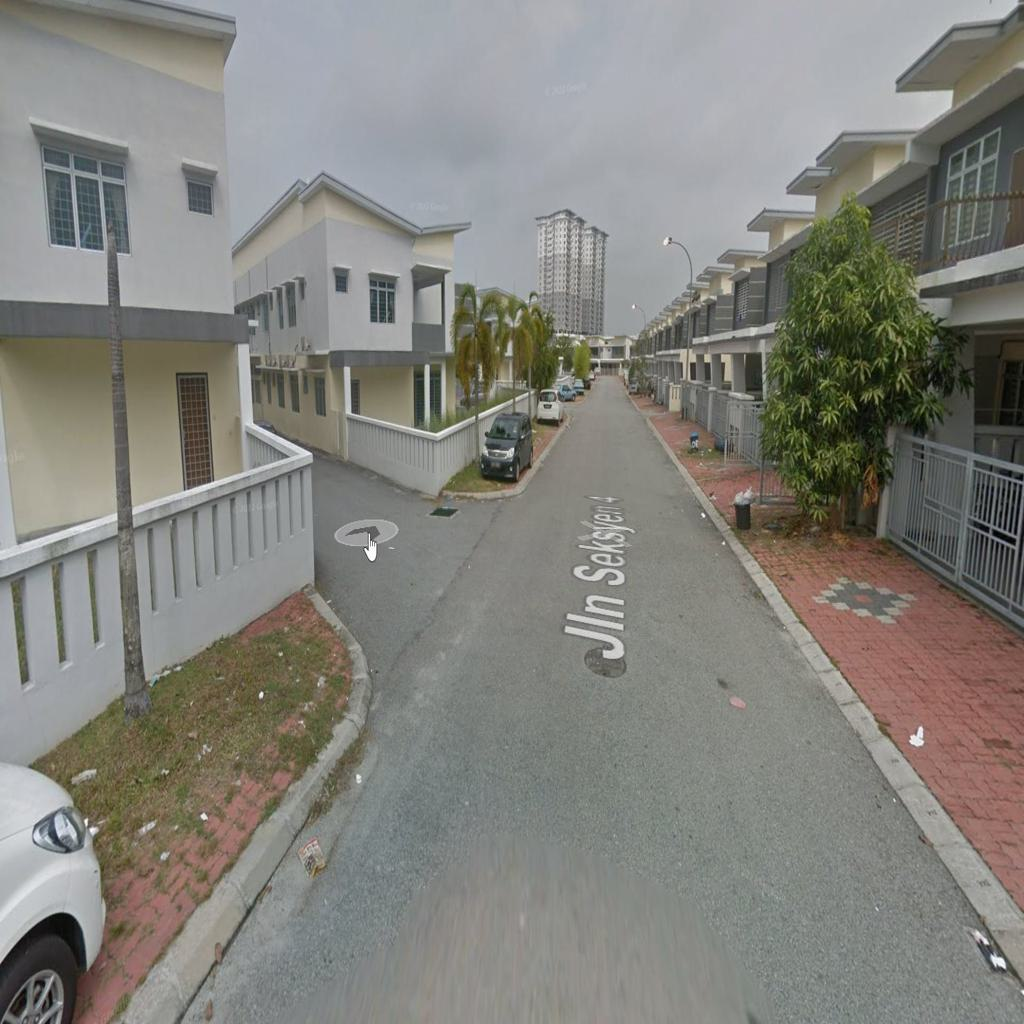Junction: (314, 433, 536, 726)
